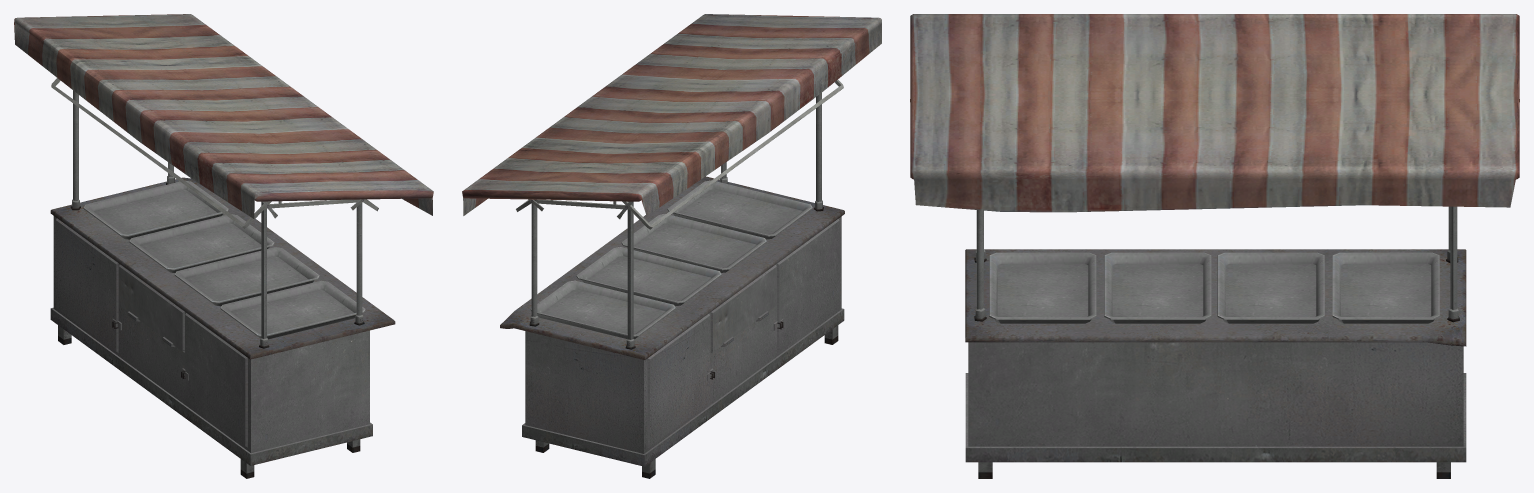
Rendered from hotdogs.obj.
3 renders of one model, left to right at view 1: azimuth 30°, elevation 25°; view 2: azimuth 150°, elevation 25°; view 3: azimuth 270°, elevation 25°, orthographic. The views are drawn at different scales.
Visible parts, largest first — view 1: city_stall; view 2: city_stall; view 3: city_stall.
Part boxes in pixels (x1,y1,x2,y2): city_stall: (14, 14, 433, 478); city_stall: (462, 14, 881, 478); city_stall: (910, 14, 1519, 478).
Bounding box in the file's own units: 1.05 × 1.69 × 2.42.
